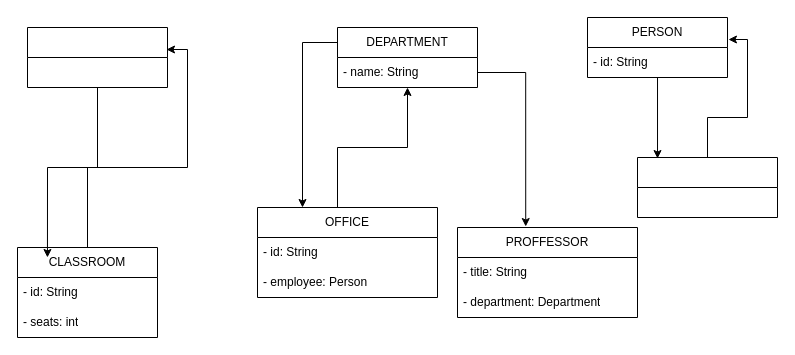
The diagram is 795 pixels wide and 355 high, and some of its shapes have lost their labels. The shapes that lost their labels are listed below. From the top down, each one's centre as x and y in pixels, then its label:
[97,57]: UNIVERSITY
[707,187]: EMPLOYEE
